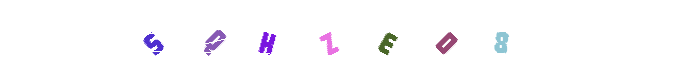0: (405, 0, 485, 80)
8: (412, 0, 492, 80)
E: (347, 0, 427, 80)
K: (288, 0, 368, 80)
Q: (183, 0, 263, 80)
S: (172, 0, 252, 80)
Z: (302, 0, 382, 80)
